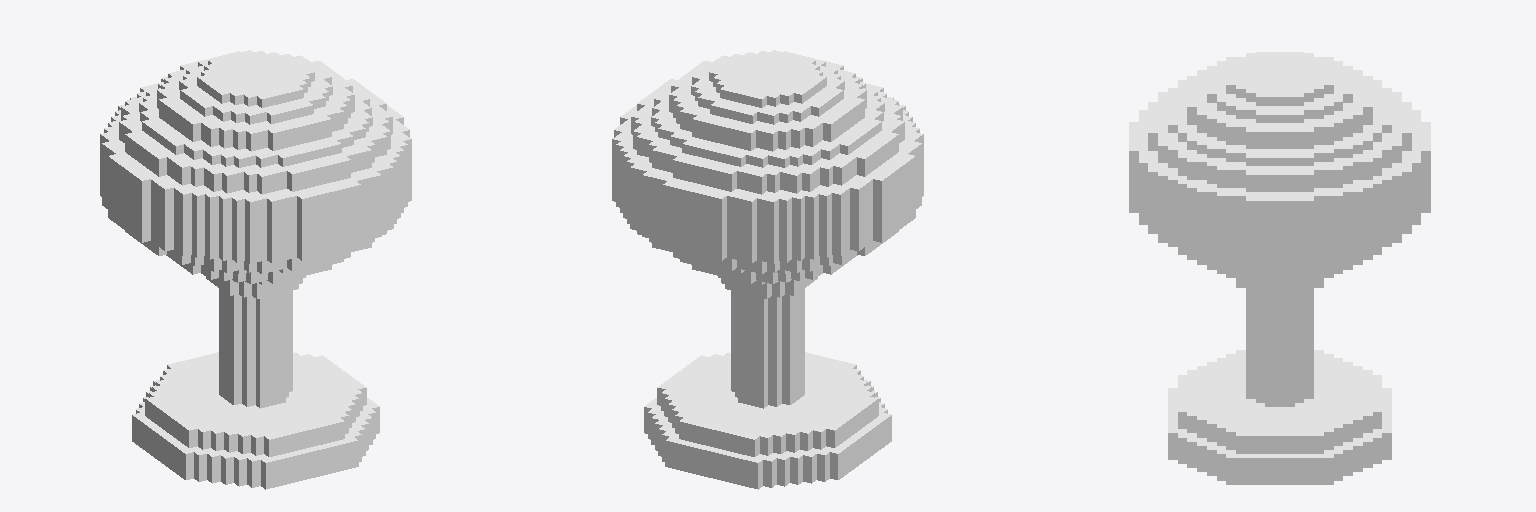
The model's file is faro_unl.obj.
The picture shows the model from 3 angles: view 1: azimuth 30°, elevation 25°; view 2: azimuth 150°, elevation 25°; view 3: azimuth 270°, elevation 25°; orthographic projection.
Parts seen in each view (by area): view 1: object 1; view 2: object 1; view 3: object 1.
Part boxes in pixels (left/top/right/bottom): object 1: left=100, top=50, right=411, bottom=489; object 1: left=612, top=50, right=923, bottom=489; object 1: left=1129, top=52, right=1430, bottom=484.
Size of the model in its own units: 3.1 by 4.1 by 3.1.